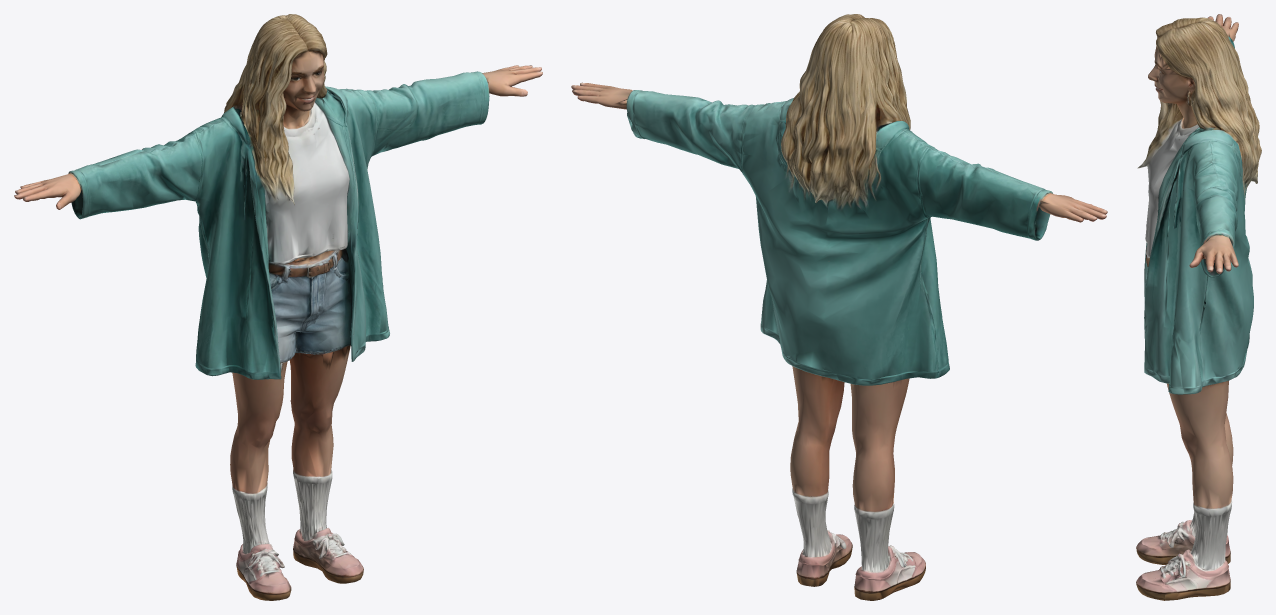
The model's file is sunny_web.glb.
3 renders of one model, left to right at view 1: azimuth 30°, elevation 25°; view 2: azimuth 150°, elevation 25°; view 3: azimuth 270°, elevation 25°, orthographic.
Parts seen in each view (by area): view 1: tripo_node_486985e9-60a7-440e-a805-0125362538ea; view 2: tripo_node_486985e9-60a7-440e-a805-0125362538ea; view 3: tripo_node_486985e9-60a7-440e-a805-0125362538ea.
Boxes of the visible parts, x1,y1,x2,y2 form: tripo_node_486985e9-60a7-440e-a805-0125362538ea: [14, 14, 542, 600]; tripo_node_486985e9-60a7-440e-a805-0125362538ea: [571, 14, 1107, 600]; tripo_node_486985e9-60a7-440e-a805-0125362538ea: [1136, 14, 1261, 600].
Size of the model in its own units: 0.972 by 0.9789 by 0.2011.
1 material, 1 textured.
